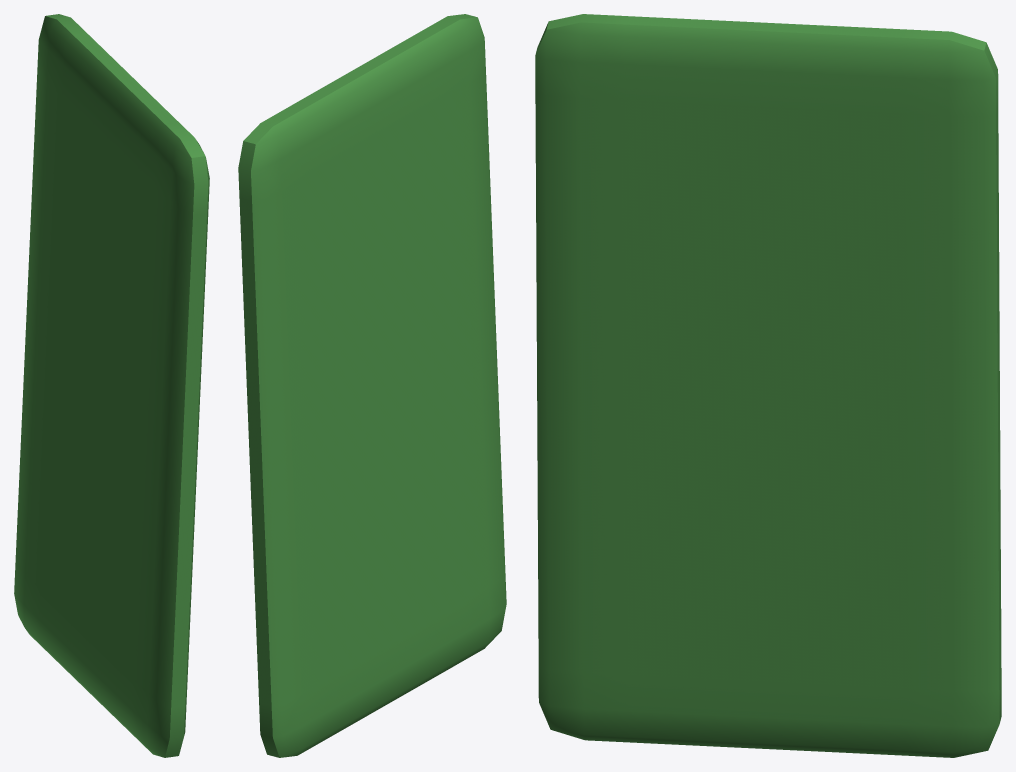
The model's file is Transposition.fbx.
The picture shows the model from 3 angles, left to right: view 1: azimuth 30°, elevation 25°; view 2: azimuth 150°, elevation 25°; view 3: azimuth 270°, elevation 25°; orthographic projection. The views are drawn at different scales.
Visible parts, largest first — view 1: Transposition; view 2: Transposition; view 3: Transposition.
Part boxes in pixels (<box>): Transposition: <box>14,14,209,757</box>; Transposition: <box>238,14,506,757</box>; Transposition: <box>535,14,1001,757</box>.
Size of the model in its own units: 17.63 by 126 by 72.38.
Materials: 1 (1 with a texture image).
